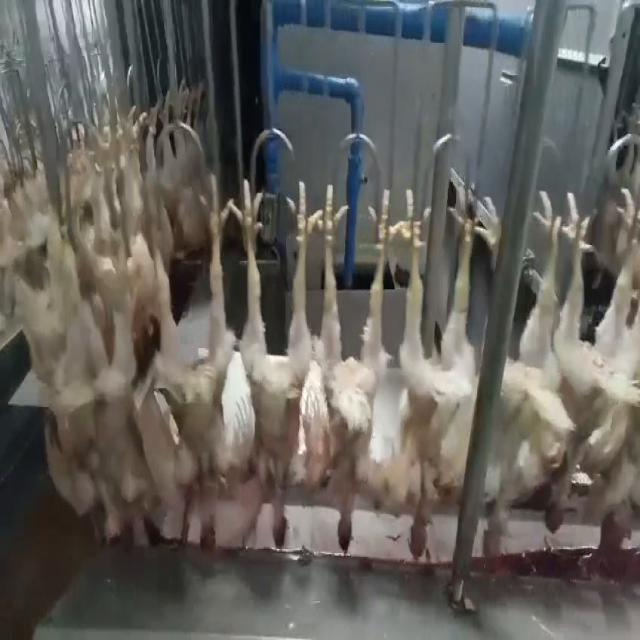chicken: (306, 189, 398, 555), (498, 186, 592, 539), (401, 189, 487, 566), (233, 176, 317, 552), (150, 174, 230, 550), (75, 177, 149, 540), (579, 170, 639, 575)
